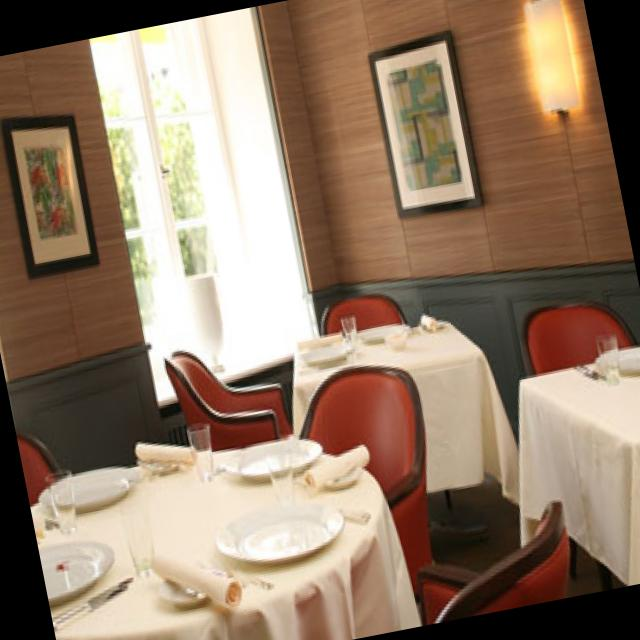2001: (88, 7, 317, 414)
armchair occluded: (417, 496, 568, 624)
armchair of dentist: (298, 365, 433, 601), (163, 347, 291, 450), (519, 294, 635, 373), (317, 291, 403, 331)
chair part: (14, 423, 64, 500)
dish -X: (215, 498, 341, 562), (225, 436, 318, 480), (40, 465, 131, 505), (305, 340, 351, 360)
dish drainer: (38, 538, 112, 603)
floor -X: (37, 418, 640, 640)
glass ceiling: (44, 467, 75, 529), (185, 421, 211, 476), (124, 523, 153, 572), (595, 331, 619, 384), (339, 315, 356, 348)
lamp crop: (522, 0, 579, 110)
napkin ring: (151, 545, 239, 607), (303, 443, 366, 486), (134, 440, 193, 460)
picture crop: (366, 28, 480, 216), (0, 111, 97, 275)
table lamp: (30, 446, 418, 640), (518, 343, 640, 582)
table runner: (291, 315, 517, 503)
wall clock: (0, 1, 363, 542), (286, 0, 640, 438)
